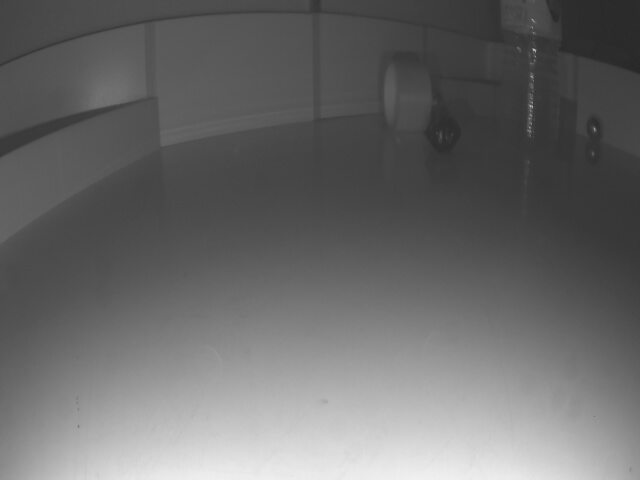Dead: (430, 116, 459, 149)
Live: (588, 115, 603, 142)
Point: (0, 99, 157, 246), (432, 76, 494, 115)
